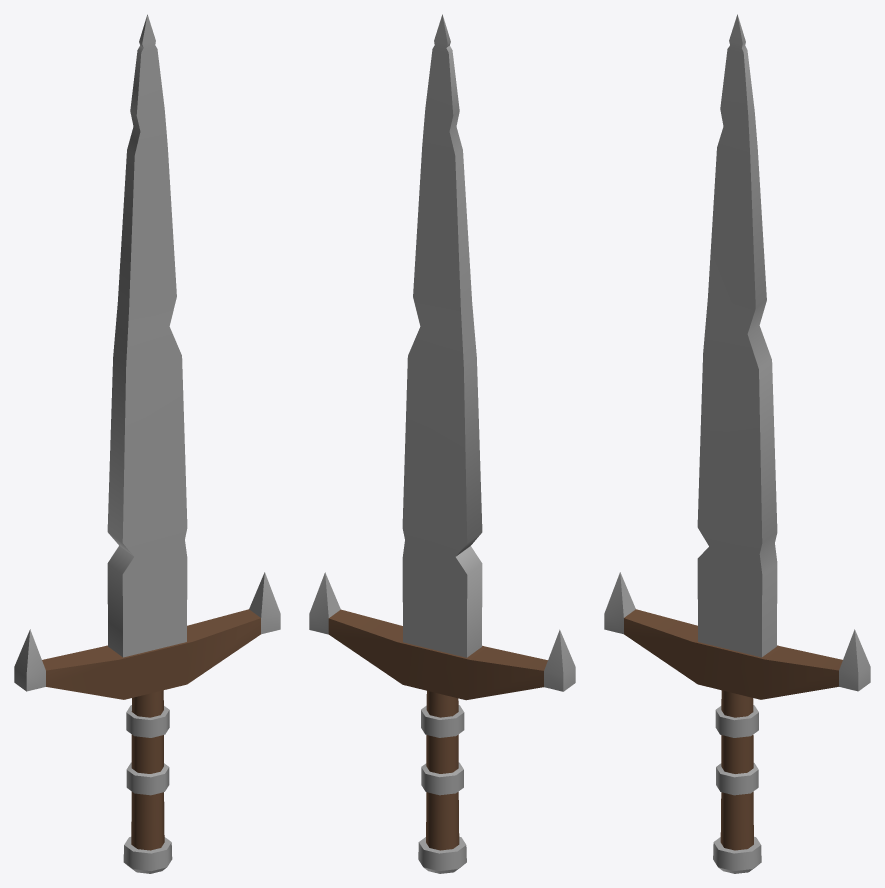
The model's file is Sowrd_8.fbx.
3 renders of one model, left to right at view 1: azimuth 30°, elevation 25°; view 2: azimuth 150°, elevation 25°; view 3: azimuth 330°, elevation 25°, orthographic.
Parts seen in each view (by area): view 1: Sowrd_8; view 2: Sowrd_8; view 3: Sowrd_8.
Boxes of the visible parts, x1,y1,x2,y2 form: Sowrd_8: [14, 14, 280, 873]; Sowrd_8: [309, 14, 575, 873]; Sowrd_8: [604, 14, 870, 873].
Size of the model in its own units: 0.1301 by 0.4171 by 0.0202.
